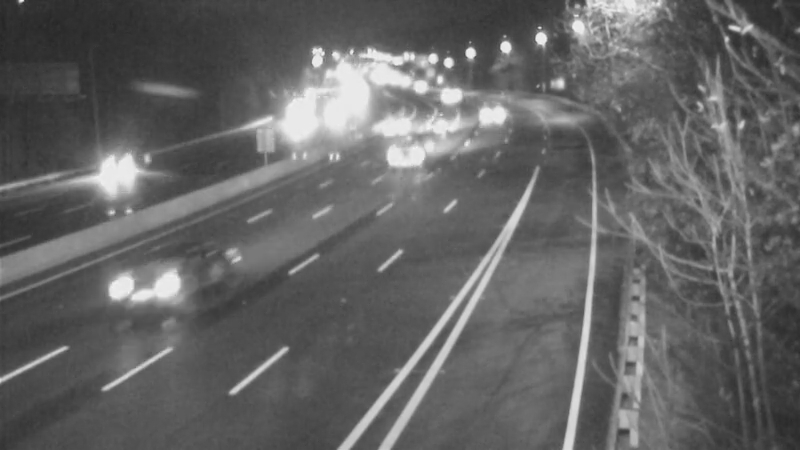vehicle: (368, 116, 448, 196), (103, 250, 183, 330), (86, 143, 166, 223), (418, 63, 468, 113), (465, 83, 515, 133), (404, 100, 454, 150), (361, 107, 411, 157)
